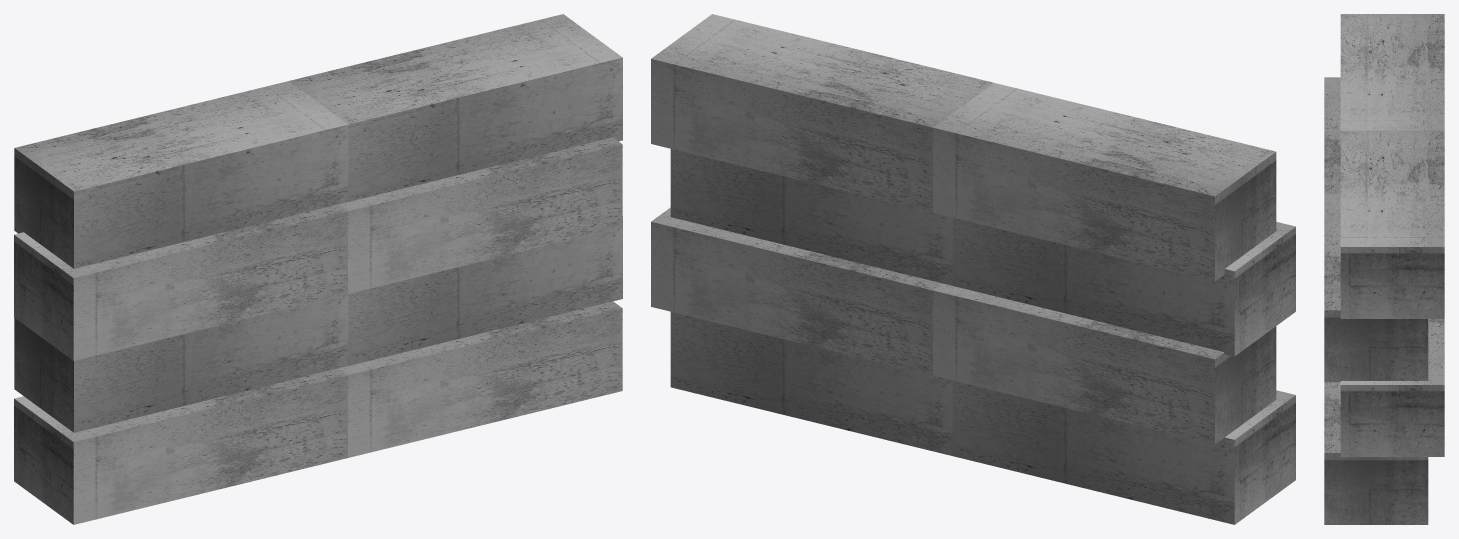
Rendered from ConcreteWall.FBX.
3 renders of one model, left to right at view 1: azimuth 30°, elevation 25°; view 2: azimuth 150°, elevation 25°; view 3: azimuth 270°, elevation 25°, orthographic. The views are drawn at different scales.
Visible parts, largest first — view 1: ConcreteWall; view 2: ConcreteWall; view 3: ConcreteWall.
Boxes of the visible parts, left/top/right/bottom form: ConcreteWall: left=14, top=14, right=622, bottom=524; ConcreteWall: left=651, top=14, right=1295, bottom=524; ConcreteWall: left=1324, top=14, right=1444, bottom=524.
Size of the model in its own units: 9457 by 2023 by 5244.
1 material, 1 textured.
